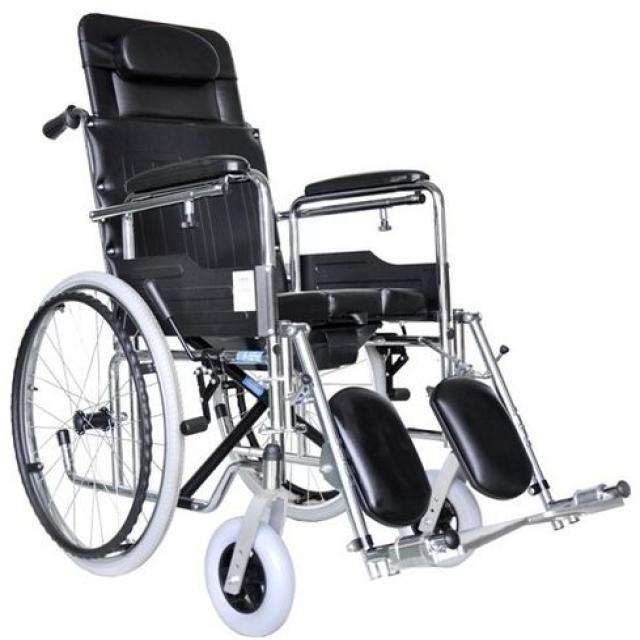wheelchairs: (3, 8, 640, 640)
